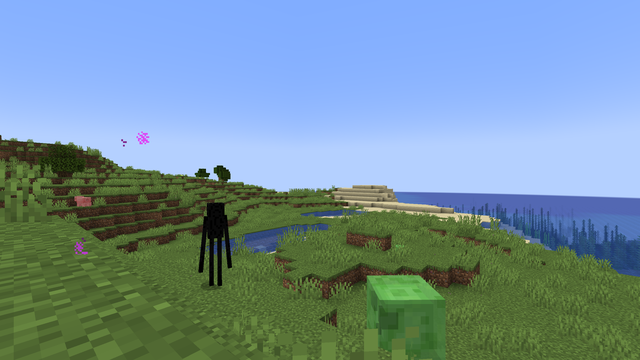cochons: (76, 196, 89, 206)
endermens: (202, 199, 227, 288)
slimes: (359, 268, 442, 358), (394, 244, 405, 255)
